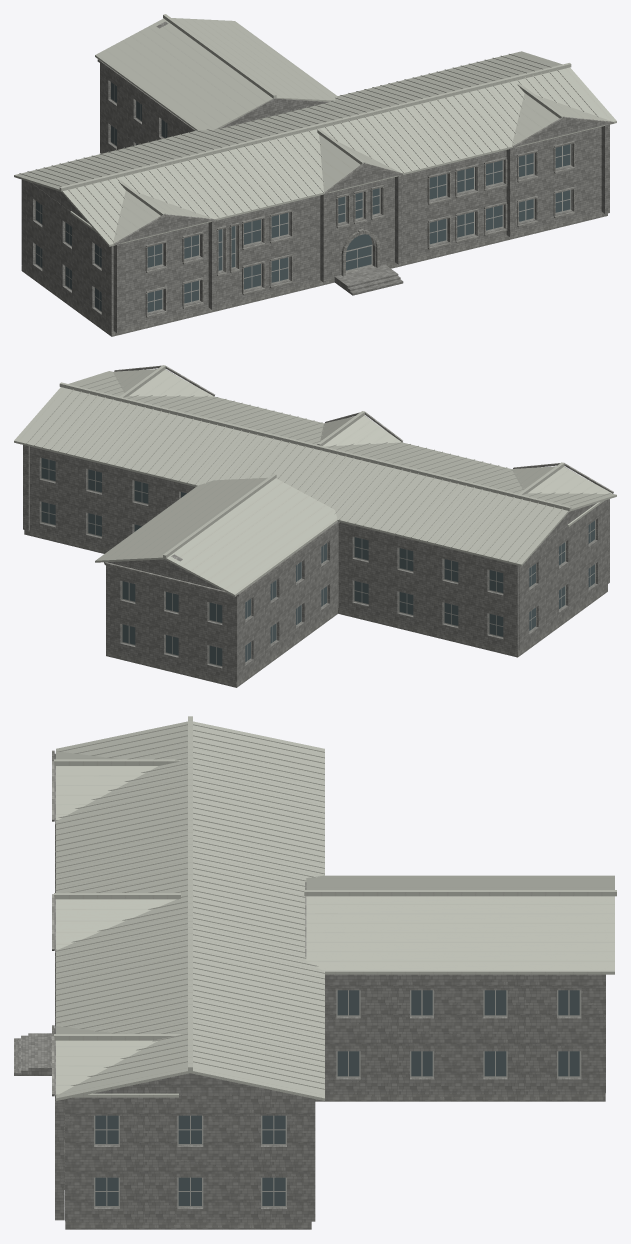
The picture shows the model from 3 angles, top to bottom: view 1: azimuth 30°, elevation 25°; view 2: azimuth 150°, elevation 25°; view 3: azimuth 270°, elevation 25°; orthographic projection. The views are drawn at different scales.
Visible parts, largest first — view 1: naturalHistory__greenroof, naturalHistory__ashlar, naturalHistory__glass, naturalHistory__roof-seams, naturalHistory__vertical-piers, naturalHistory__window-surrounds, naturalHistory__roof-gables, naturalHistory__plinth, naturalHistory__frame, naturalHistory__window-sills, naturalHistory__lightstone, naturalHistory__entry-stairs (+2 smaller); view 2: naturalHistory__greenroof, naturalHistory__ashlar, naturalHistory__roof-seams, naturalHistory__glass, naturalHistory__plinth, naturalHistory__frame, naturalHistory__lightstone, naturalHistory__roof-gables; view 3: naturalHistory__greenroof, naturalHistory__ashlar, naturalHistory__roof-seams, naturalHistory__glass, naturalHistory__plinth, naturalHistory__frame, naturalHistory__roof-gables, naturalHistory__vertical-piers, naturalHistory__entry-stairs, naturalHistory__entry-landing.
Boxes of the visible parts, x1=… form: naturalHistory__greenroof: x1=14, y1=14, x2=616, y2=246; naturalHistory__ashlar: x1=21, y1=63, x2=601, y2=330; naturalHistory__glass: x1=36, y1=82, x2=570, y2=312; naturalHistory__roof-seams: x1=19, y1=53, x2=598, y2=242; naturalHistory__vertical-piers: x1=113, y1=124, x2=609, y2=333; naturalHistory__window-surrounds: x1=145, y1=141, x2=574, y2=315; naturalHistory__roof-gables: x1=31, y1=21, x2=609, y2=243; naturalHistory__plinth: x1=21, y1=147, x2=607, y2=336; naturalHistory__frame: x1=35, y1=82, x2=571, y2=313; naturalHistory__window-sills: x1=146, y1=167, x2=574, y2=317; naturalHistory__lightstone: x1=97, y1=59, x2=613, y2=245; naturalHistory__entry-stairs: x1=345, y1=272, x2=403, y2=295; naturalHistory__greenroof: x1=14, y1=365, x2=616, y2=596; naturalHistory__ashlar: x1=23, y1=445, x2=607, y2=681; naturalHistory__roof-seams: x1=26, y1=375, x2=611, y2=562; naturalHistory__glass: x1=41, y1=458, x2=594, y2=665; naturalHistory__plinth: x1=24, y1=524, x2=607, y2=687; naturalHistory__frame: x1=41, y1=458, x2=595, y2=666; naturalHistory__lightstone: x1=104, y1=365, x2=613, y2=596; naturalHistory__roof-gables: x1=111, y1=369, x2=596, y2=588; naturalHistory__greenroof: x1=54, y1=716, x2=616, y2=1100; naturalHistory__ashlar: x1=65, y1=974, x2=605, y2=1221; naturalHistory__roof-seams: x1=55, y1=724, x2=324, y2=1089; naturalHistory__glass: x1=95, y1=990, x2=579, y2=1205; naturalHistory__plinth: x1=65, y1=1093, x2=605, y2=1229; naturalHistory__frame: x1=94, y1=990, x2=581, y2=1207; naturalHistory__roof-gables: x1=54, y1=753, x2=306, y2=1095; naturalHistory__vertical-piers: x1=55, y1=820, x2=64, y2=1220; naturalHistory__entry-stairs: x1=14, y1=1033, x2=35, y2=1075; naturalHistory__entry-landing: x1=35, y1=1033, x2=51, y2=1075.
Size of the model in its own units: 44.5 by 9.92 by 32.29.
5 materials, 3 textured.
